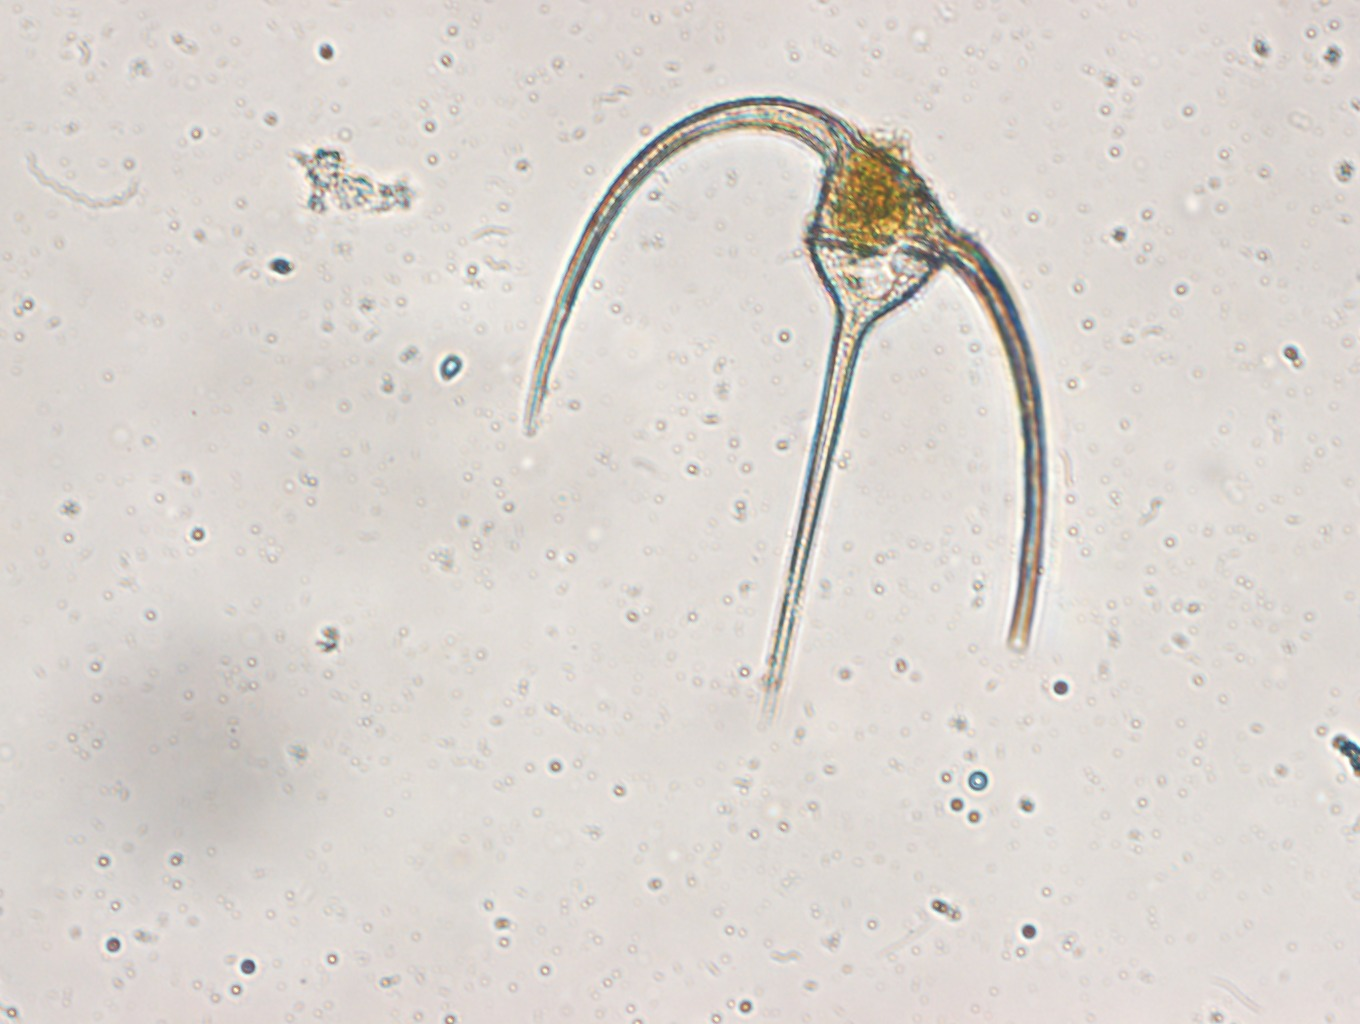ceratium trichoceros: (510, 89, 1053, 717)
